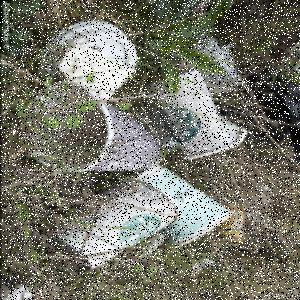Cup: (42, 176, 182, 273), (21, 82, 167, 174), (163, 65, 248, 161), (153, 165, 235, 249)
